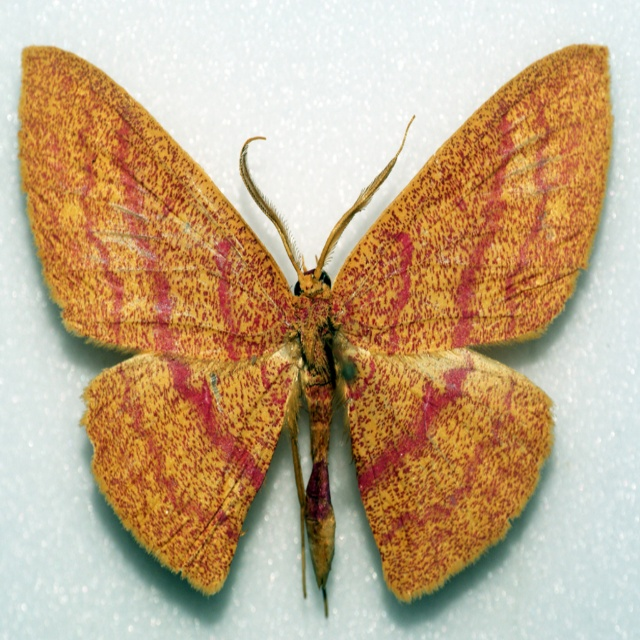Butterfly: (17, 40, 618, 603)
